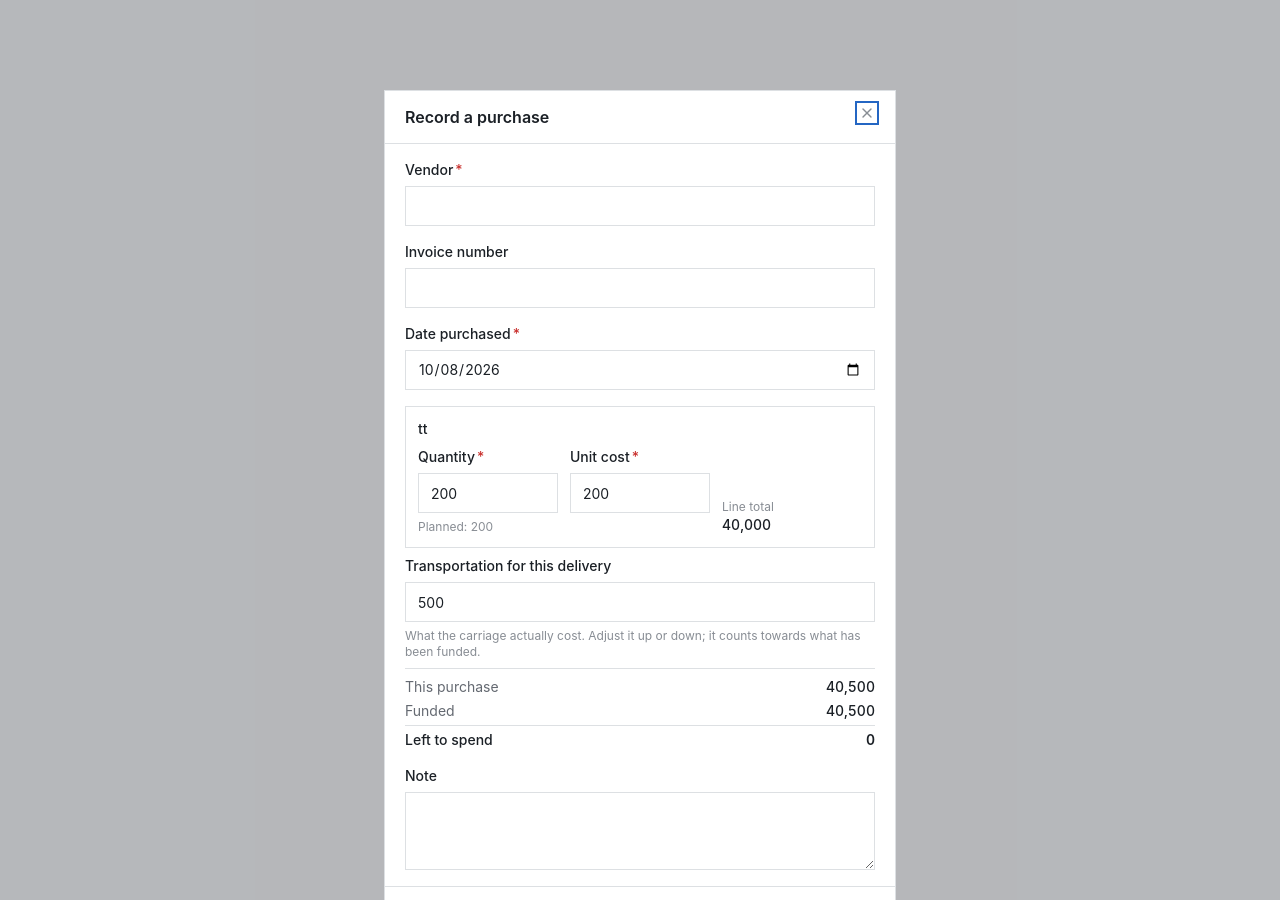
Test case: recording a purchase › recomputes as the quantity changes
Replace the text in the number field labelled "Quantity" with "100" at (488,493), box [418,473,558,513]
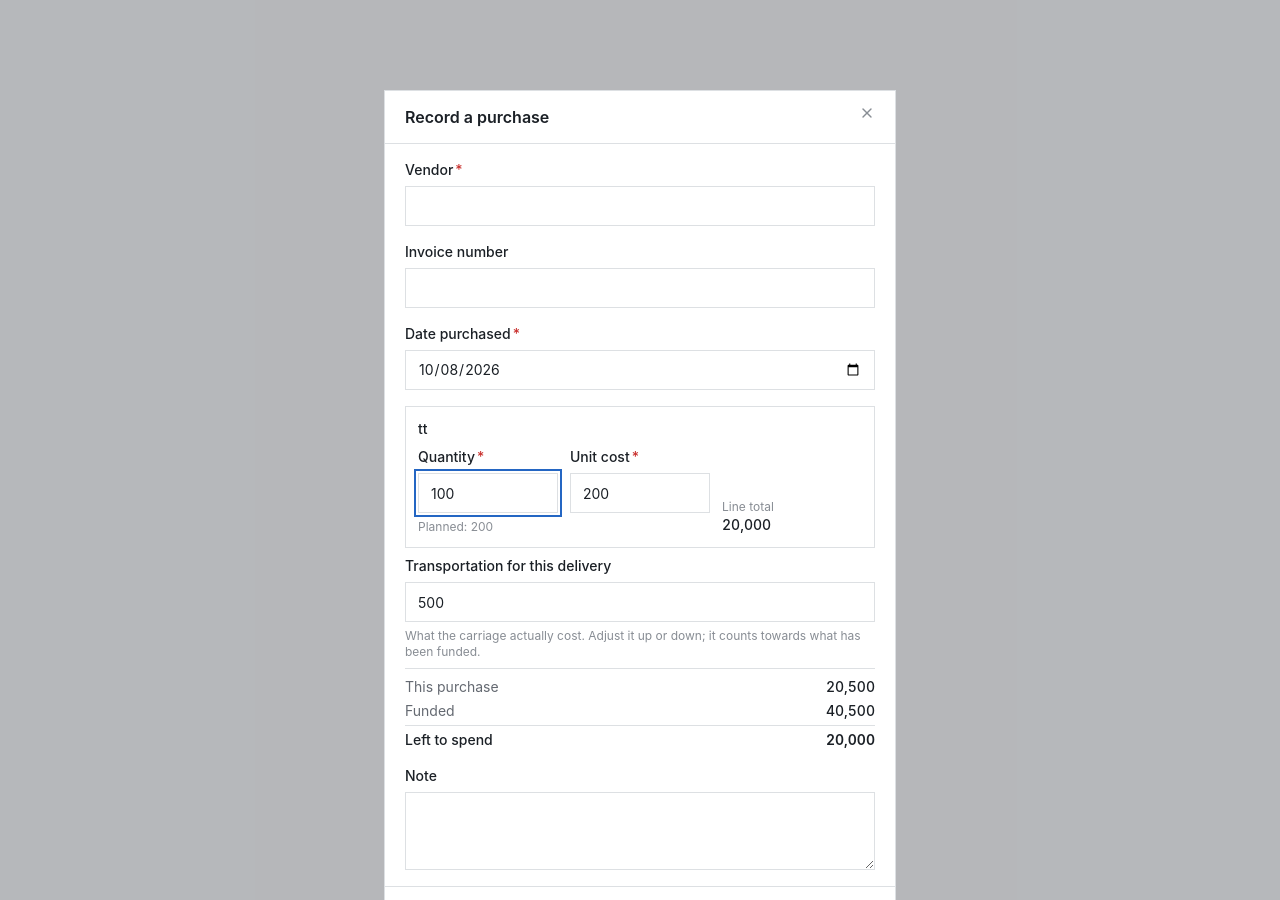
Expected: the text "20,000" in the row of "Left to spend" is shown, [826,731,875,748]
